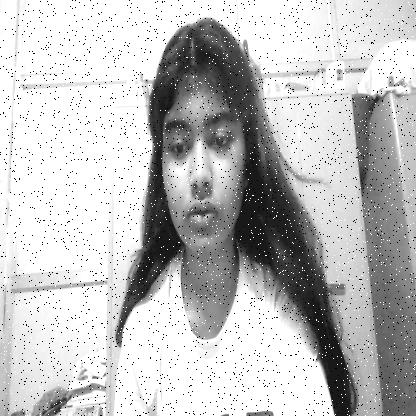Normal: (150, 25, 258, 262)
